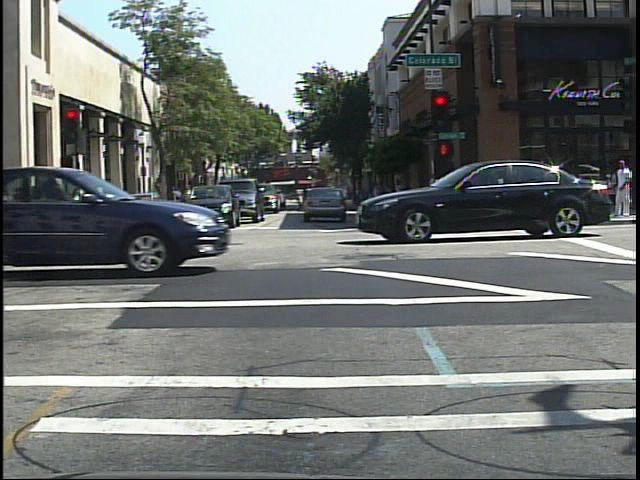person: (611, 156, 637, 221)
